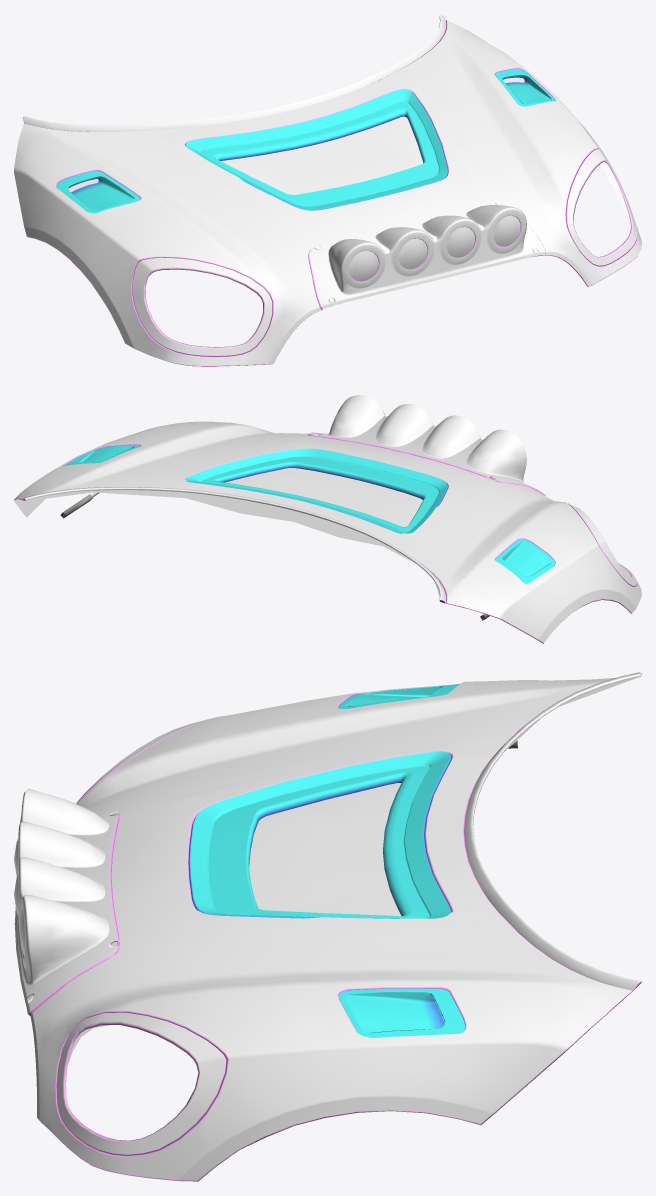
Rendered from Car_Mini_CountrymanJCW_2017_Hood_SetE_AltA.fbx.
3 renders of one model, top to bottom at view 1: azimuth 30°, elevation 25°; view 2: azimuth 150°, elevation 25°; view 3: azimuth 270°, elevation 25°, orthographic. The views are drawn at different scales.
Parts seen in each view (by area): view 1: Hood 6; view 2: Hood 6; view 3: Hood 6.
Boxes of the visible parts, x1,y1,x2,y2 form: Hood 6: (14, 14, 641, 366); Hood 6: (14, 395, 641, 643); Hood 6: (14, 672, 641, 1181).
Size of the model in its own units: 1.78 by 0.3864 by 1.23.
